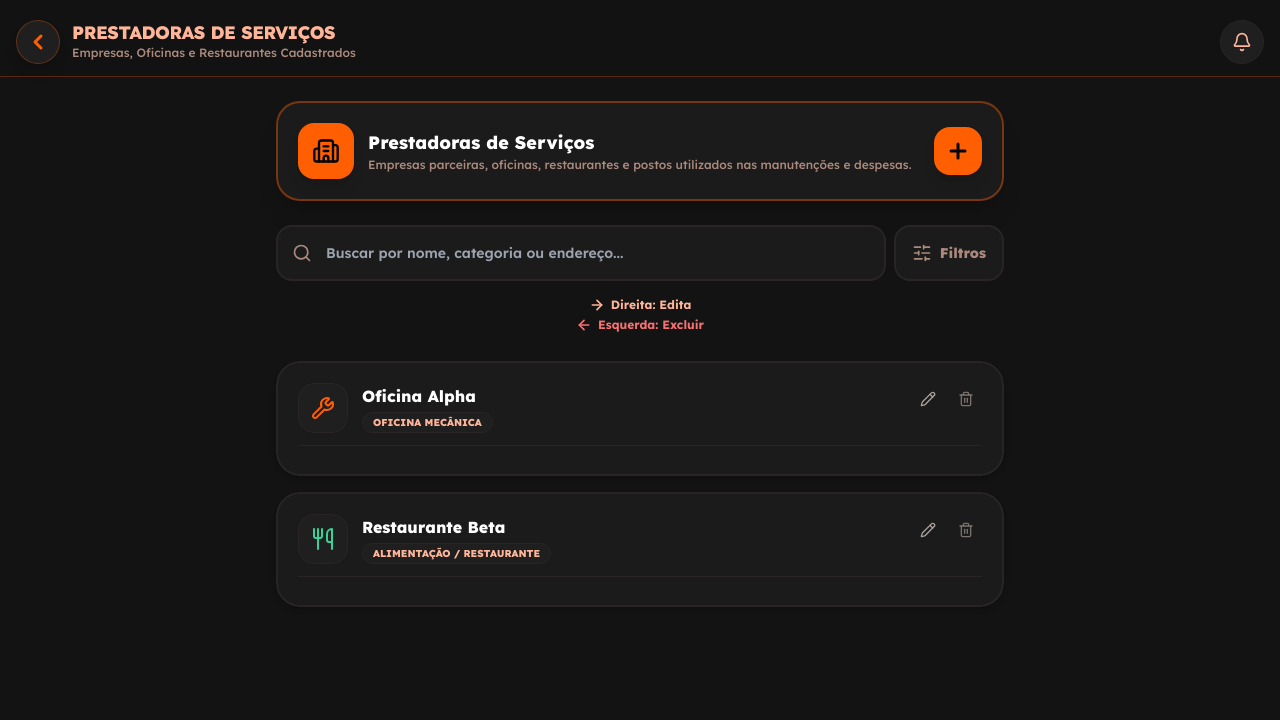
Empresas.tsx — Centralização de Empresas & Prestadoras › Scenario G: filters companies by search term and category
The image size is (1280, 720).
Expected: the heading "Oficina Alpha" is shown, [362,384,493,408]
Expected: the heading "Restaurante Beta" is shown, [362,516,505,536]
Step 1. Type "Alpha" into the field with placeholder "Buscar por nome, categoria ou endereço..." → point(581, 253), box [276,225,886,281]
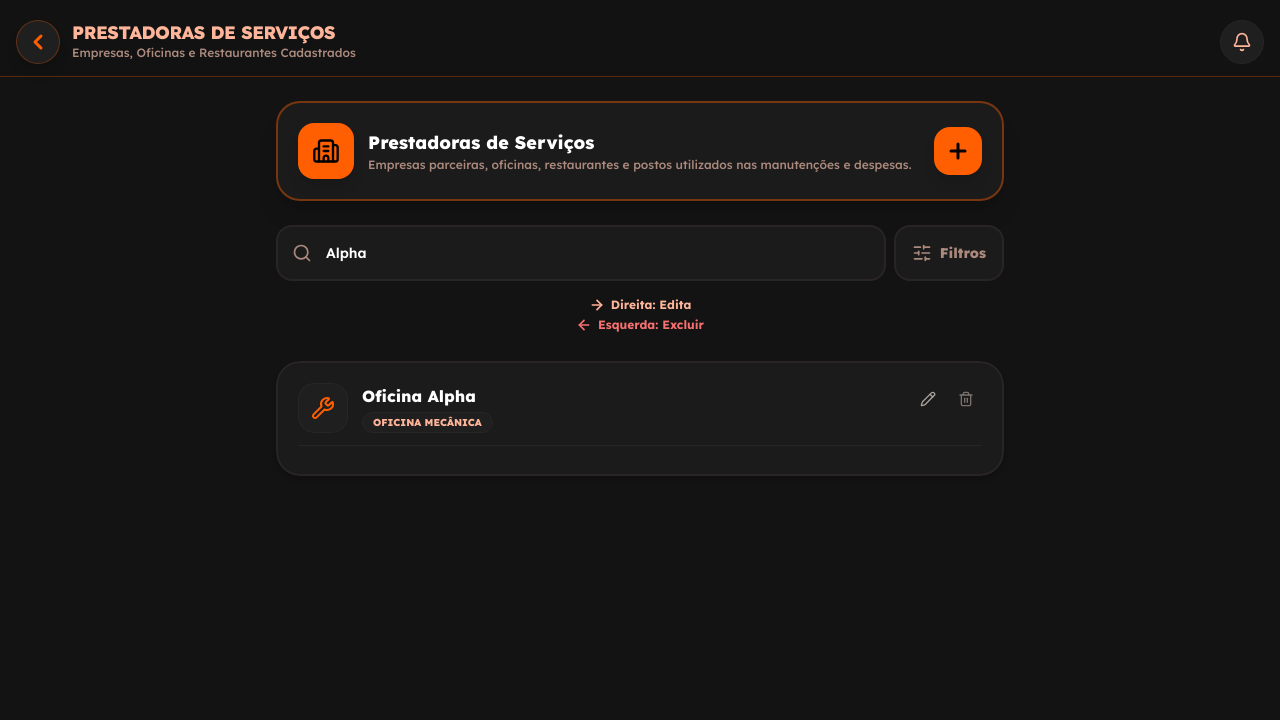
Expected: the heading "Oficina Alpha" is shown, [362,384,493,408]
Result: the heading "Restaurante Beta" is gone
